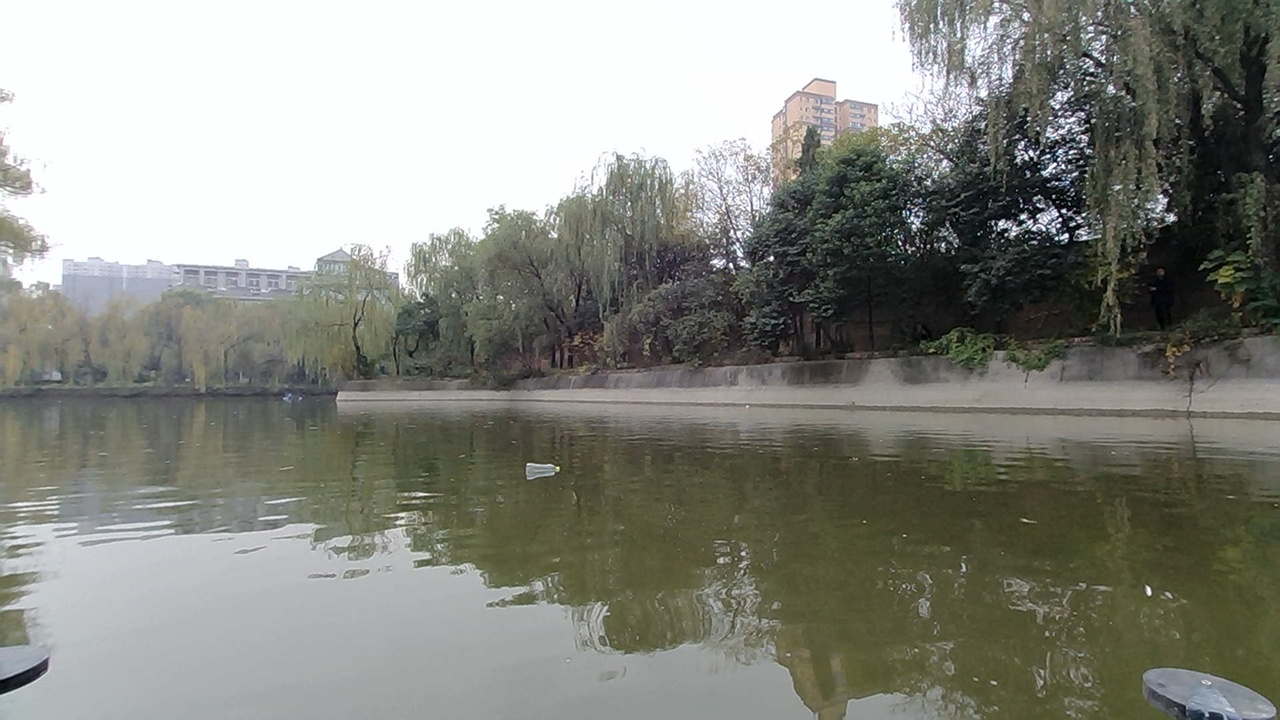bottle: (517, 443, 578, 486)
